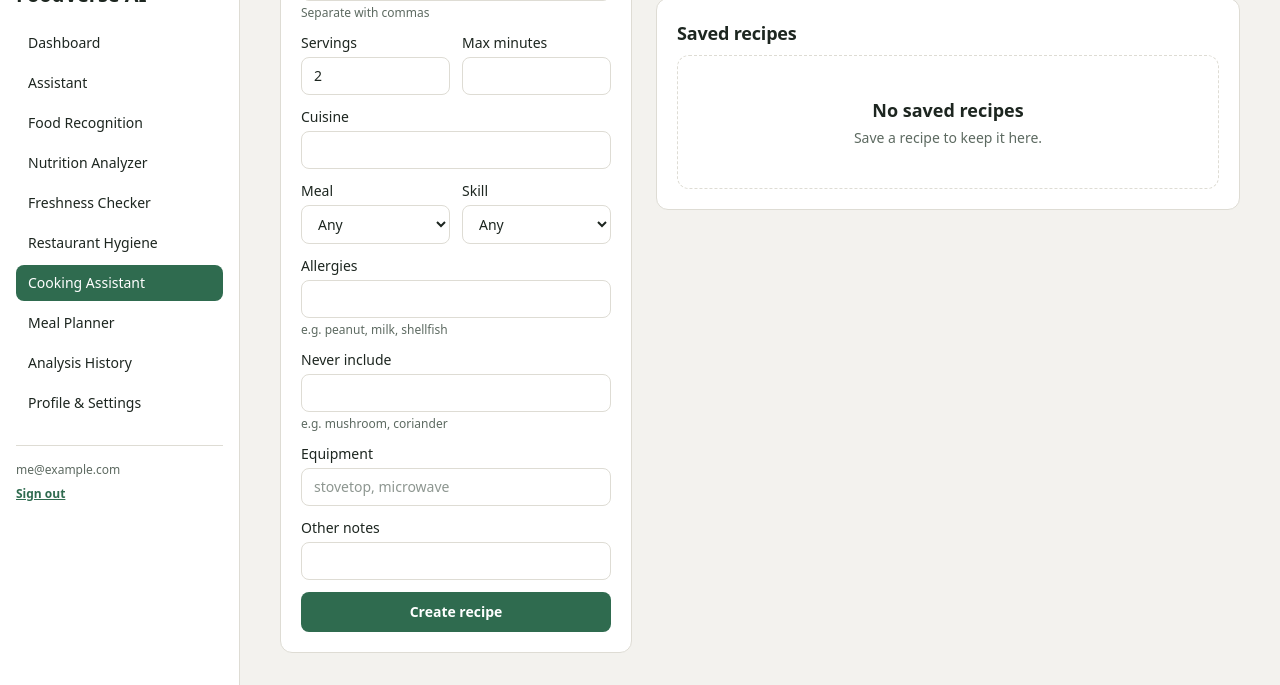
Scenario: cooking assistant › shows the restriction-violation refusal
(page scrolled)
Click the button "Create recipe".
click(456, 612)  # box [301, 592, 611, 632]
(page scrolled)
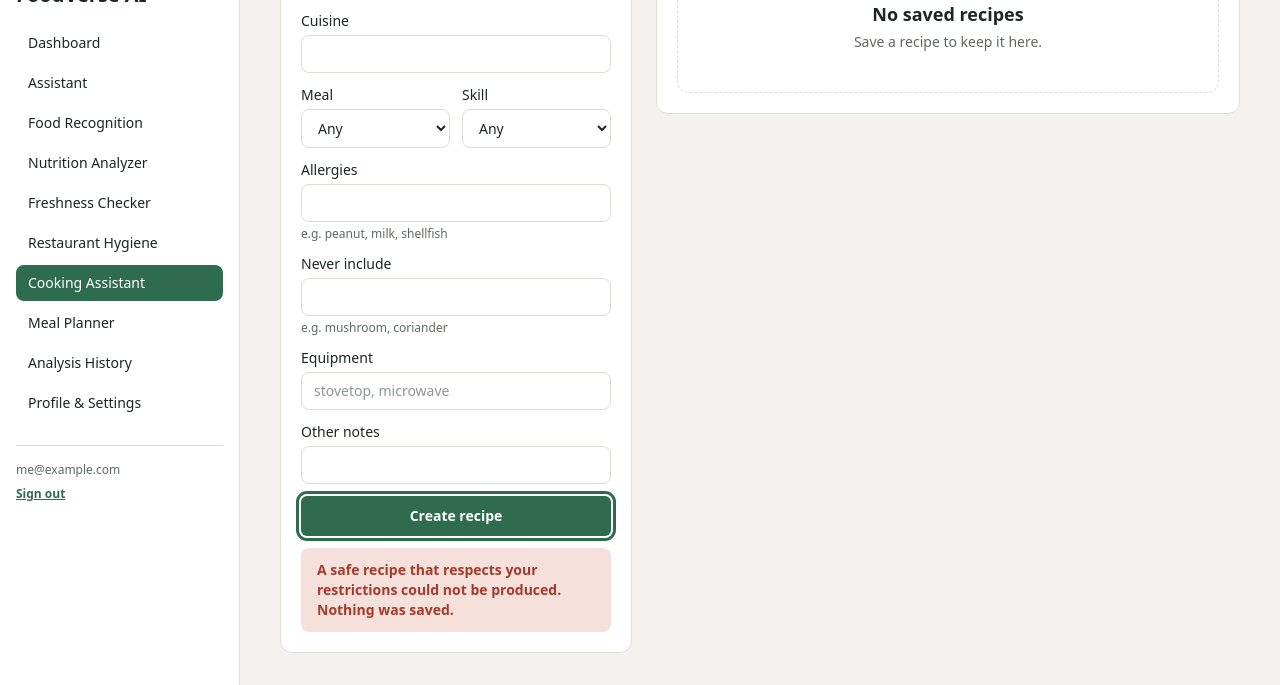
Expected: the message shows "Nothing was saved", [317, 560, 561, 619]
